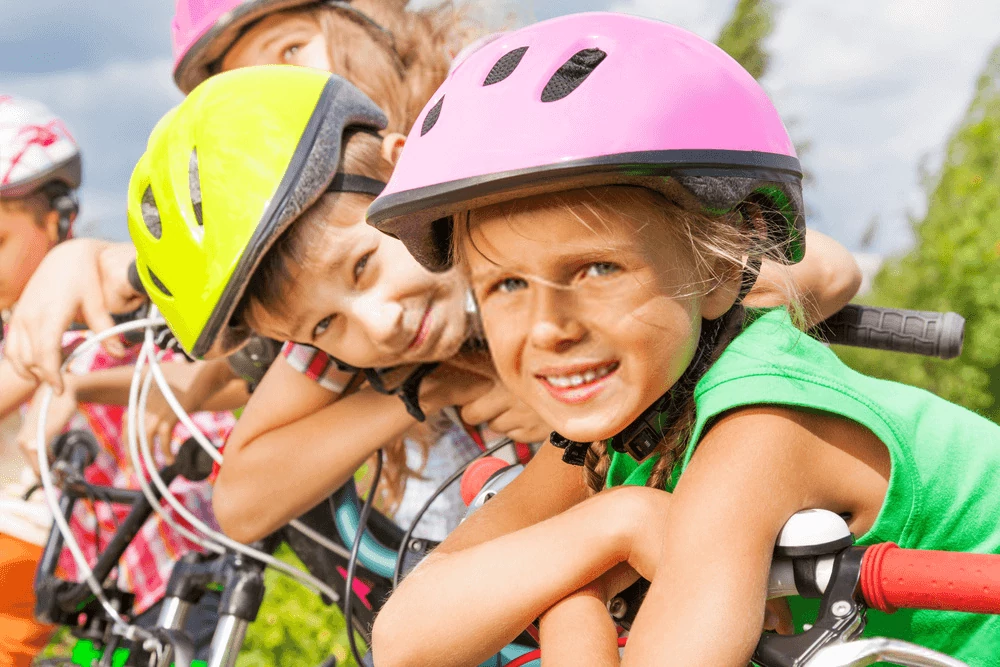helmet: (364, 11, 806, 443), (127, 64, 467, 368)
